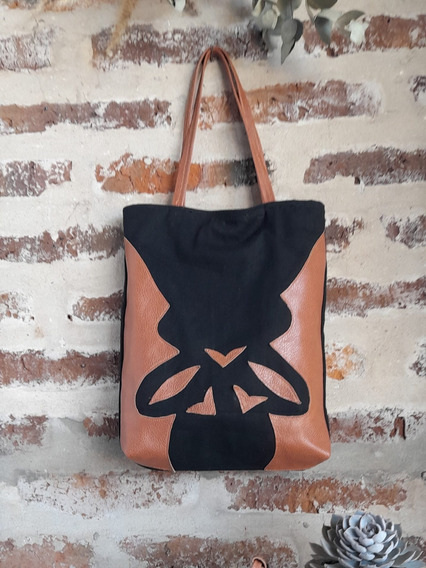cartera: (118, 44, 333, 474)
